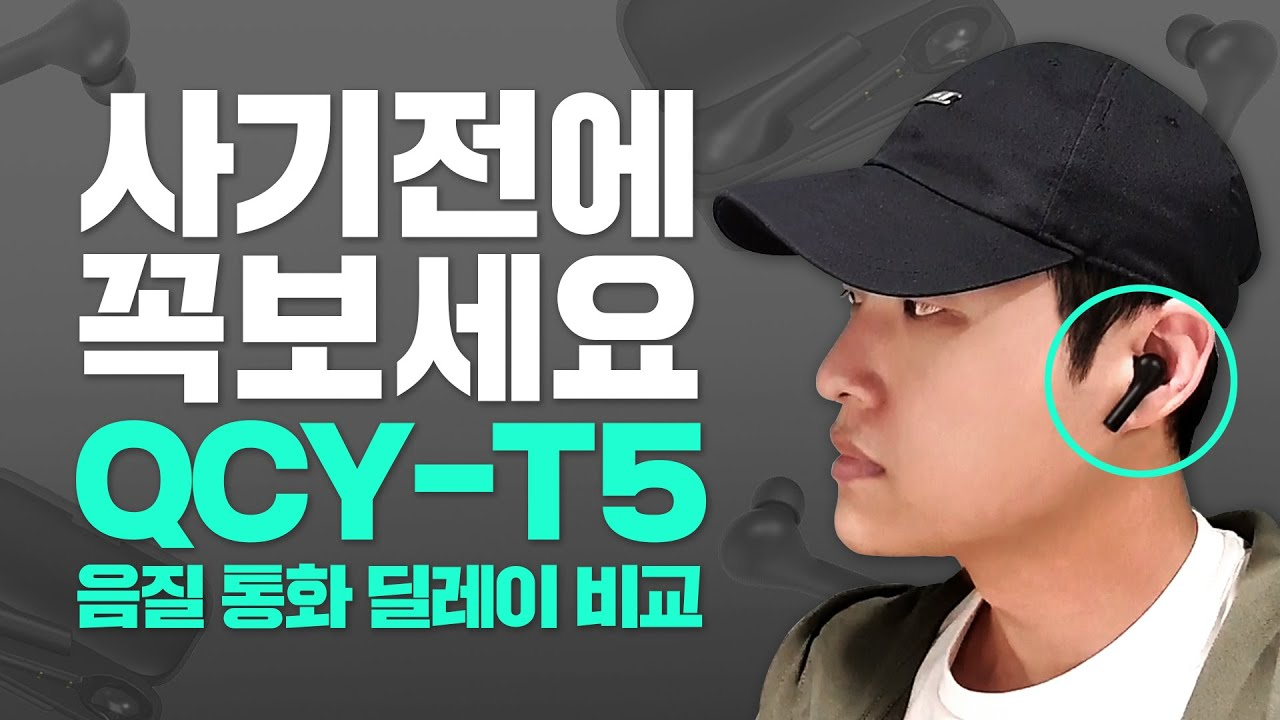earphone: (1102, 295, 1216, 433)
